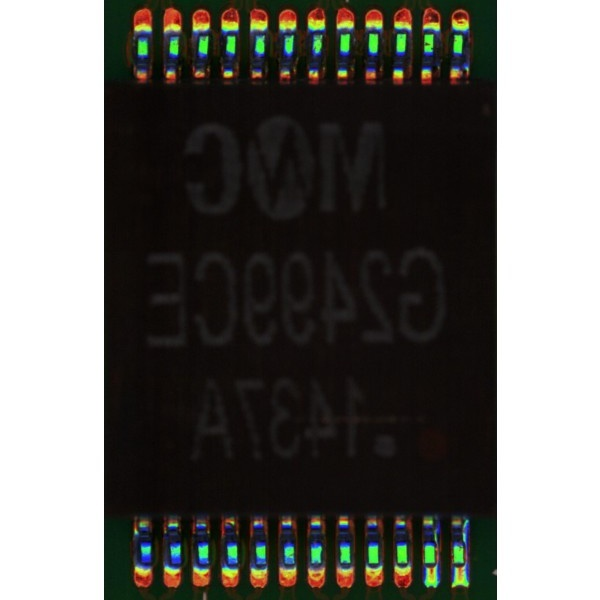Bad_qiaojiao: (463, 517, 469, 564), (436, 528, 440, 564)
